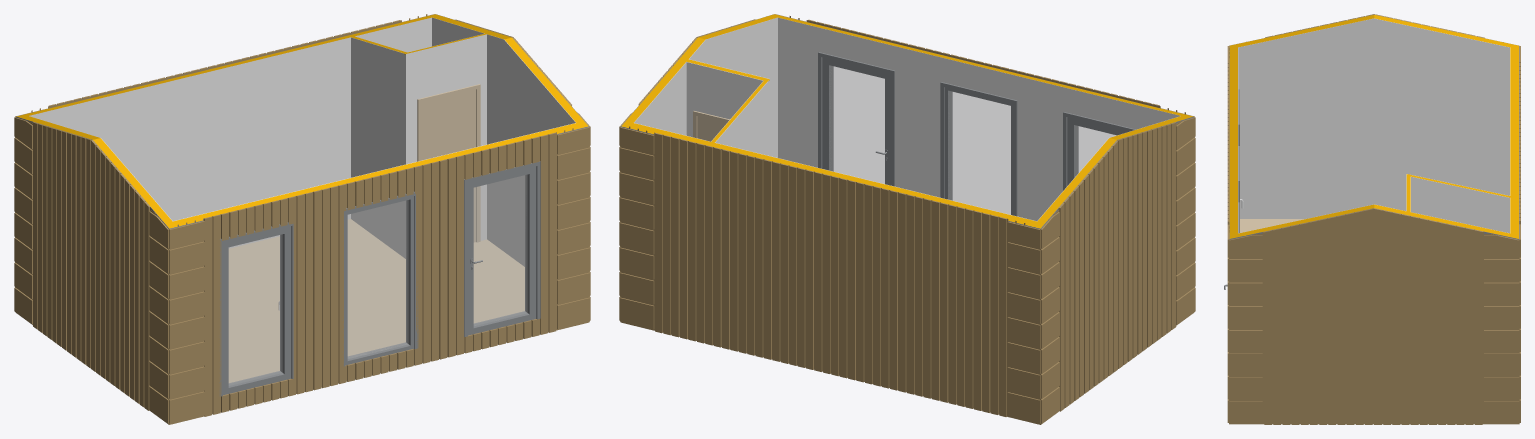
File: g.tarasewic@gmail.fbx
3 views of the same model, side by side, from view 1: azimuth 30°, elevation 25°; view 2: azimuth 150°, elevation 25°; view 3: azimuth 270°, elevation 25° (orthographic). The views are drawn at different scales.
Visible parts, largest first — view 1: IfcWall/Part:2397154, IfcSlab/Part:2319985, IfcDoor/Durys išorinės:1000x2100x120 (dešininės):2439432, IfcWindow/Langai (Akrusta):1000x2100x120 (dešininis):2618284, IfcWindow/Langai (Akrusta):1000x2100x120:2765935, IfcWall/Part:2397151, IfcWall/Part:2769679, IfcBuildingElementProxy/Kampai Kvadratiniai - line based:Ru. (×2), IfcBuildingElementProxy/Kampai Kvadratiniai - line based:Rud, IfcBuildingElementProxy/Kampai Kvadratiniai - line based:Ru, IfcWall/Part:2769682, IfcDoor/Durys vidinės:800x2100 x 120 (kairinės):2584617 (+45 smaller); view 2: IfcWall/Part:2319976, IfcBuildingElementProxy/Kampai Kvadratiniai - line based:Ru. (×4), IfcWindow/Langai (Akrusta):1000x2100x120:2765935, IfcDoor/Durys išorinės:1000x2100x120 (dešininės):2439432, IfcWall/Part:2397151, IfcWall/Part:2769681, IfcWindow/Langai (Akrusta):1000x2100x120 (dešininis):2618284, IfcWall/Part:2397156, IfcWall/Part:2769679, IfcPlate/System Panel:Tašelio imitacija - Ruda:2777757, IfcPlate/System Panel:Tašelio imitacija - Ruda:2777773, IfcPlate/System Panel:Tašelio imitacija - Ruda:2777793 (+67 smaller); view 3: IfcWall/Part:2368365, IfcBuildingElementProxy/Kampai Kvadratiniai - line based:Ru. (×3), IfcMember/Rectangular Mullion:Tašelio imitacijos intarpas .0 (×24), IfcWall/Part:2769678, IfcPlate/System Panel:Tašelio imitacija - Ruda:2777638, IfcPlate/System Panel:Tašelio imitacija - Ruda:2777648, IfcPlate/System Panel:Tašelio imitacija - Ruda:2777636, IfcPlate/System Panel:Tašelio imitacija - Ruda:2777650, IfcPlate/System Panel:Tašelio imitacija - Ruda:2777634, IfcPlate/System Panel:Tašelio imitacija - Ruda:2777626, IfcPlate/System Panel:Tašelio imitacija - Ruda:2777660, IfcPlate/System Panel:Tašelio imitacija - Ruda:2777624 (+23 smaller).
Boxes of the visible parts, box(x1,y1,x2,y2) form: IfcWall/Part:2397154: box(29, 17, 431, 248); IfcSlab/Part:2319985: box(228, 219, 524, 382); IfcDoor/Durys išorinės:1000x2100x120 (dešininės):2439432: box(464, 161, 540, 336); IfcWindow/Langai (Akrusta):1000x2100x120 (dešininis):2618284: box(219, 222, 293, 396); IfcWindow/Langai (Akrusta):1000x2100x120:2765935: box(342, 191, 418, 366); IfcWall/Part:2397151: box(432, 17, 575, 266); IfcWall/Part:2769679: box(351, 37, 405, 258); IfcBuildingElementProxy/Kampai Kvadratiniai - line based:Ru. (×2): box(14, 117, 169, 424); IfcBuildingElementProxy/Kampai Kvadratiniai - line based:Rud: box(169, 221, 204, 424); IfcBuildingElementProxy/Kampai Kvadratiniai - line based:Ru: box(557, 127, 589, 330); IfcWall/Part:2769682: box(405, 34, 486, 258); IfcDoor/Durys vidinės:800x2100 x 120 (kairinės):2584617: box(417, 84, 480, 242); IfcWall/Part:2319976: box(778, 17, 1180, 220); IfcBuildingElementProxy/Kampai Kvadratiniai - line based:Ru. (×4): box(620, 117, 1195, 424); IfcWindow/Langai (Akrusta):1000x2100x120:2765935: box(940, 82, 1017, 216); IfcDoor/Durys išorinės:1000x2100x120 (dešininės):2439432: box(818, 52, 894, 186); IfcWall/Part:2397151: box(634, 17, 777, 157); IfcWall/Part:2769681: box(686, 62, 763, 137); IfcWindow/Langai (Akrusta):1000x2100x120 (dešininis):2618284: box(1063, 112, 1135, 190); IfcWall/Part:2397156: box(621, 121, 1044, 228); IfcWall/Part:2769679: box(715, 79, 769, 155); IfcPlate/System Panel:Tašelio imitacija - Ruda:2777757: box(923, 198, 931, 398); IfcPlate/System Panel:Tašelio imitacija - Ruda:2777773: box(856, 182, 864, 382); IfcPlate/System Panel:Tašelio imitacija - Ruda:2777793: box(772, 161, 780, 361); IfcWall/Part:2368365: box(1238, 18, 1509, 218); IfcBuildingElementProxy/Kampai Kvadratiniai - line based:Ru. (×3): box(1229, 224, 1520, 424); IfcMember/Rectangular Mullion:Tašelio imitacijos intarpas .0 (×24): box(1262, 208, 1474, 424); IfcWall/Part:2769678: box(1411, 176, 1509, 233); IfcPlate/System Panel:Tašelio imitacija - Ruda:2777638: box(1392, 212, 1400, 424); IfcPlate/System Panel:Tašelio imitacija - Ruda:2777648: box(1346, 212, 1354, 424); IfcPlate/System Panel:Tašelio imitacija - Ruda:2777636: box(1401, 214, 1409, 424); IfcPlate/System Panel:Tašelio imitacija - Ruda:2777650: box(1336, 214, 1345, 424); IfcPlate/System Panel:Tašelio imitacija - Ruda:2777634: box(1410, 216, 1419, 424); IfcPlate/System Panel:Tašelio imitacija - Ruda:2777626: box(1447, 224, 1455, 424); IfcPlate/System Panel:Tašelio imitacija - Ruda:2777660: box(1291, 224, 1299, 424); IfcPlate/System Panel:Tašelio imitacija - Ruda:2777624: box(1456, 226, 1464, 424).
Bounding box in the file's own units: 604 × 312 × 389.
